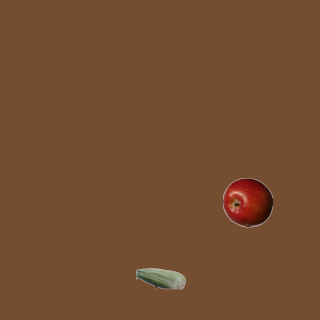Apple Braeburn: (222, 177, 272, 227)
Corn Husk: (135, 253, 185, 303)
